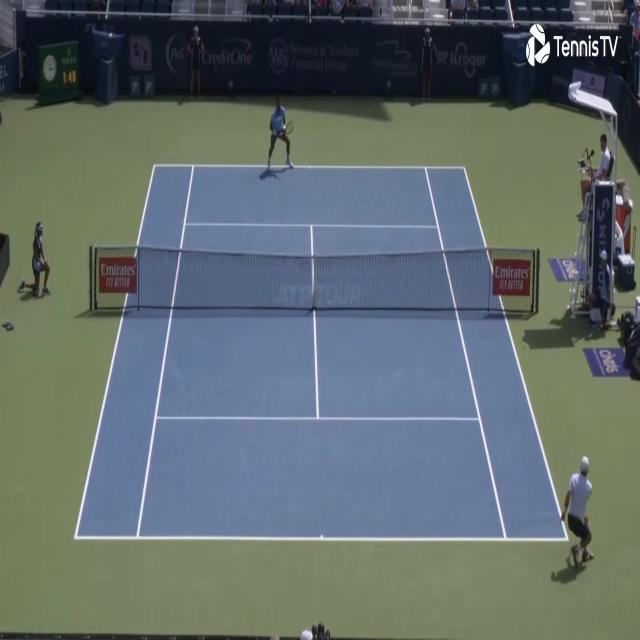tennis-player: (559, 452, 596, 572), (263, 92, 297, 177)
